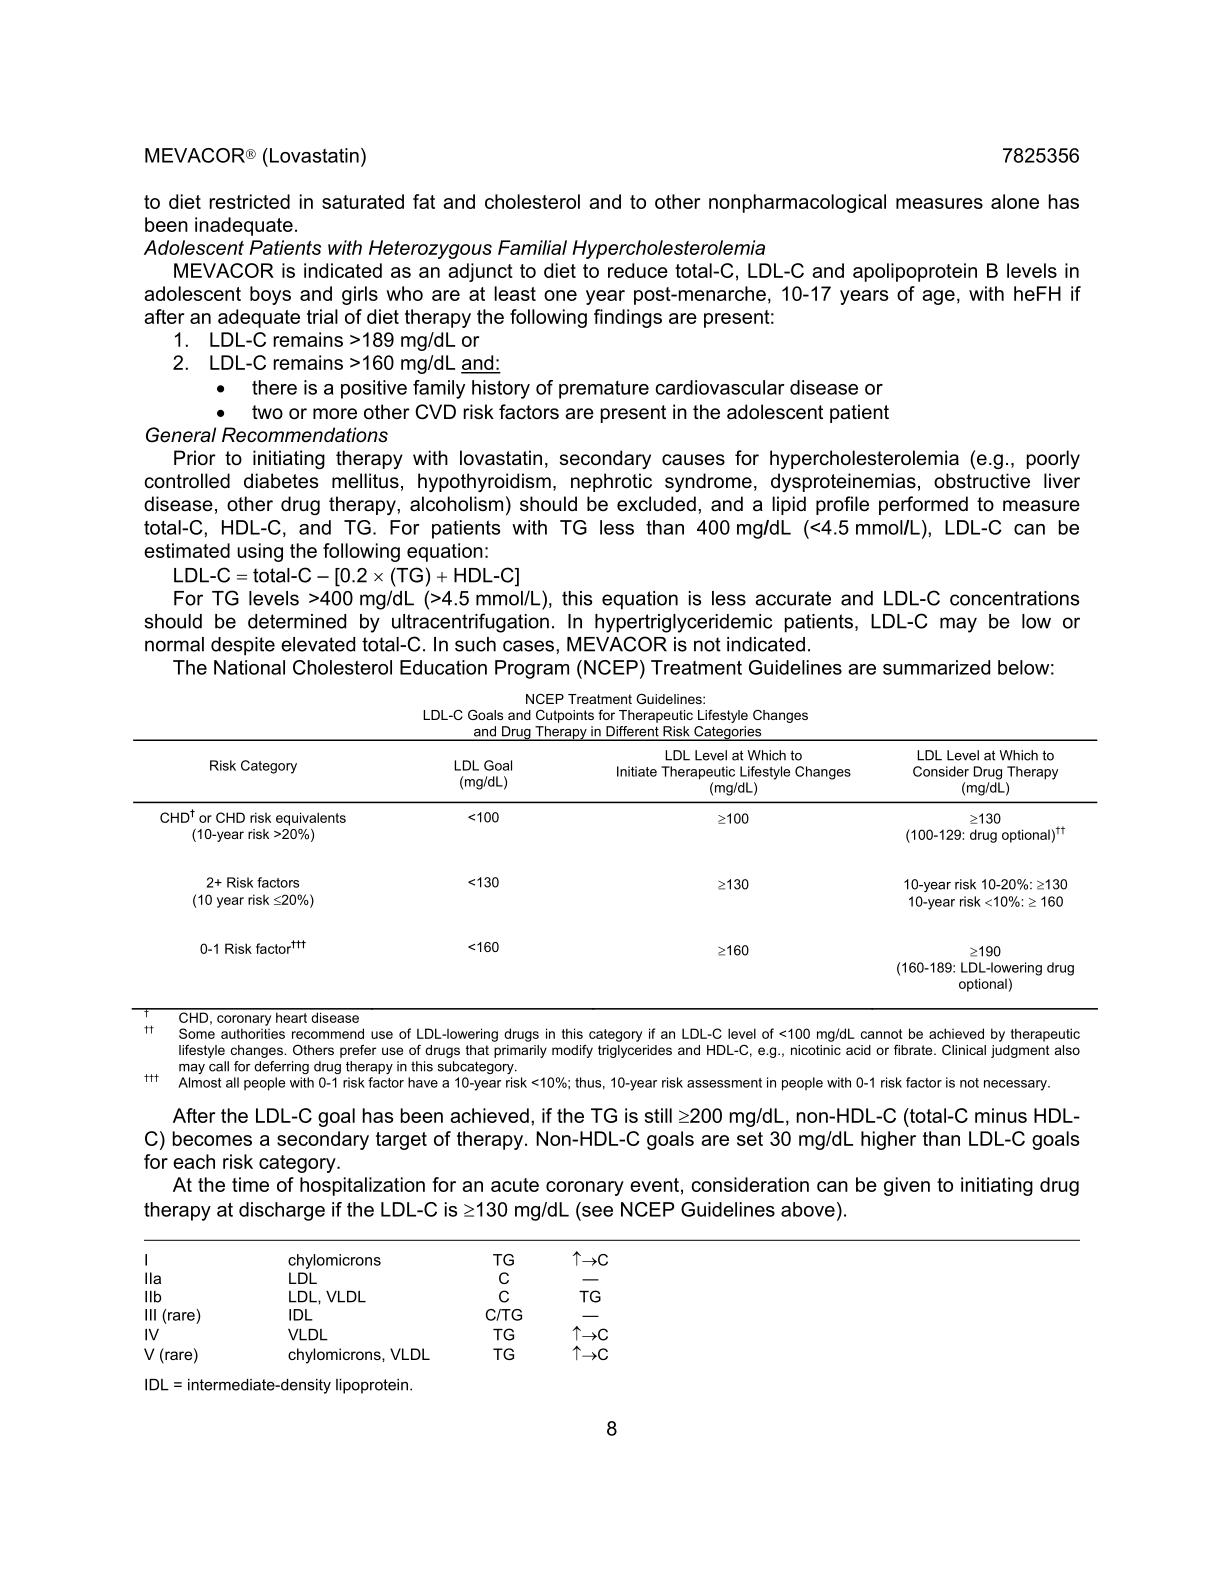partial_lined: (130, 738, 1098, 1011), (140, 1237, 1079, 1392)
